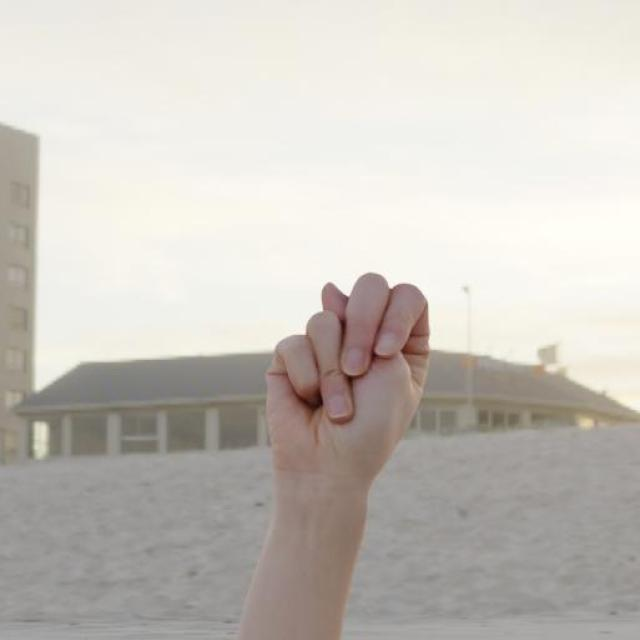N: (260, 266, 434, 484)
